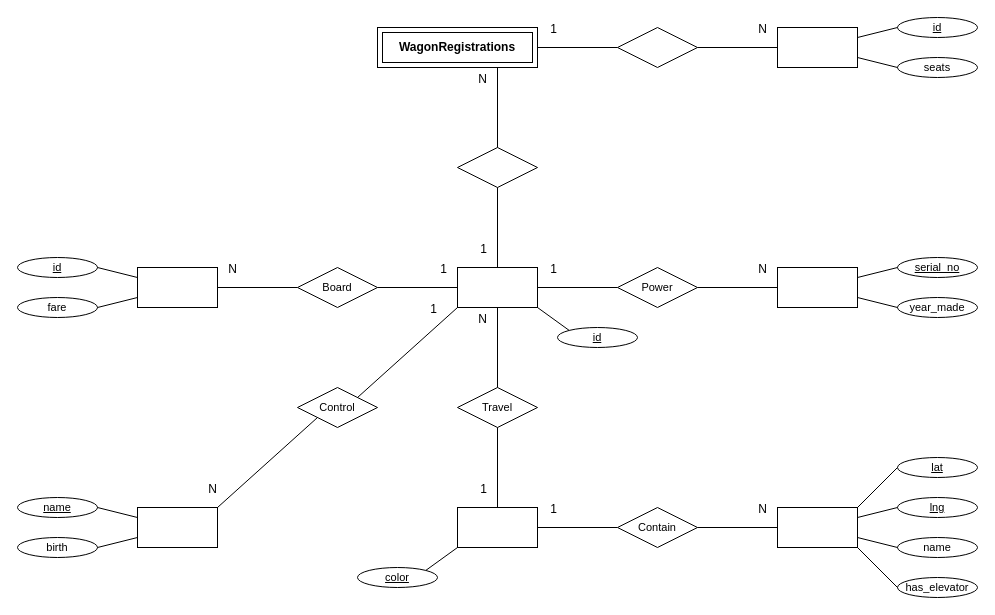
This 995x615 diagram has some shape labels left out. Here are the shapes that lost their labels. From the top down, the box of each, then its label:
(616, 26, 698, 68): Build
(776, 26, 858, 68): Wagons
(456, 146, 538, 188): Carries
(136, 266, 218, 308): Passengers
(456, 266, 538, 308): Trains
(776, 266, 858, 308): Locomotives
(136, 506, 218, 548): Conductors
(456, 506, 538, 548): Tracks
(776, 506, 858, 548): Stations
